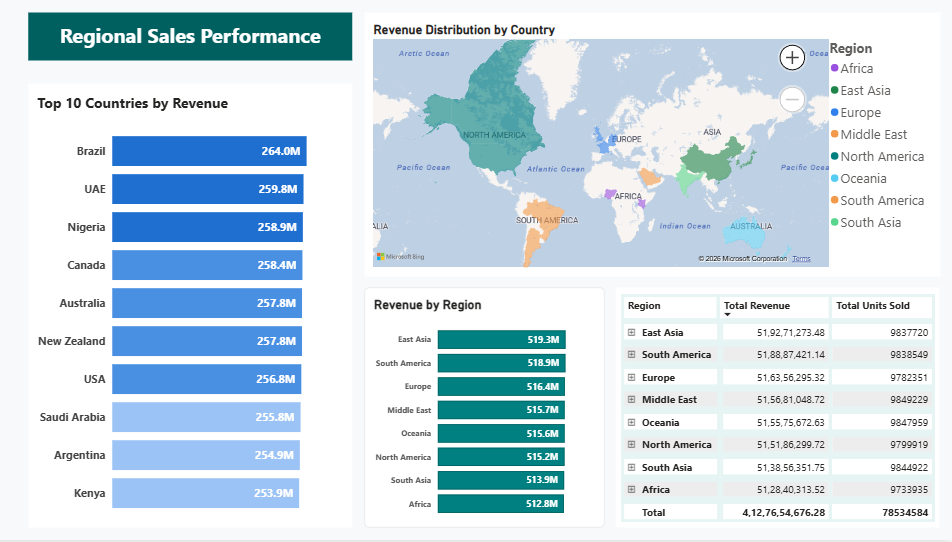

The dashboard page shown, as its layout file describes it:
{"tool":"powerbi","page":{"name":"Regional Performance","canvas":[1280,720],"ordinal":1},"visuals":[{"type":"textbox","title":"Regional Sales Performance","box":[48,16,432,64],"z":0},{"type":"filledMap","title":"Revenue Distribution by Country","fields":{"Category":["Dim_Region.country"],"Series":["Dim_Region.region"]},"box":[496,16,768,352],"z":1000},{"type":"clusteredBarChart","title":"Top 10 Countries by Revenue","fields":{"Category":["Dim_Region.country"],"Y":["_KPI_Table.Total Revenue"]},"box":[48,112,432,592],"z":2000},{"type":"clusteredBarChart","title":"Revenue by Region","fields":{"Y":["_KPI_Table.Total Revenue"],"Category":["Dim_Region.region"]},"box":[496,384,320,320],"z":3000},{"type":"pivotTable","fields":{"Rows":["Dim_Region.region","Dim_Region.country"],"Values":["_KPI_Table.Total Revenue","_KPI_Table.Total Units Sold"]},"box":[832,384,432,320],"z":4000}]}

Visuals, with their boxes in screenshot pixels (x1, y1, x2, y2), scaled from the page's 1280x720 canvas onto the 952x542 screenshot:
"Regional Sales Performance" textbox: 36 12 357 60
"Revenue Distribution by Country" filledMap: 369 12 940 277
"Top 10 Countries by Revenue" clusteredBarChart: 36 84 357 530
"Revenue by Region" clusteredBarChart: 369 289 607 530
pivotTable - Dim_Region.region x Dim_Region.country: 619 289 940 530
